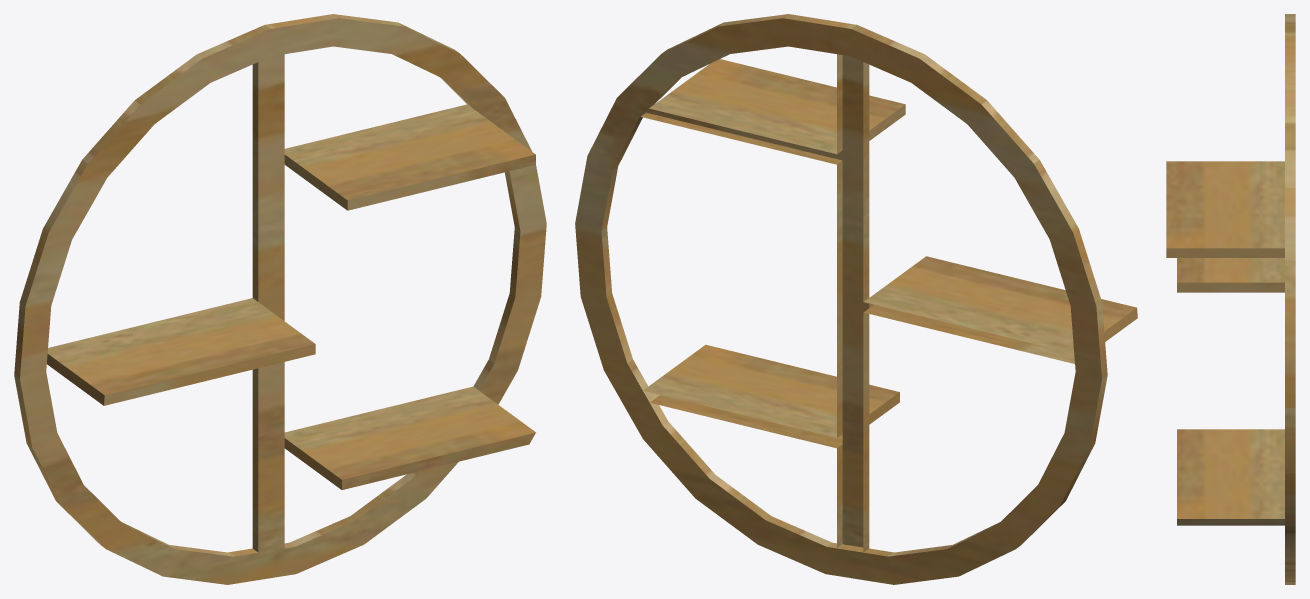
3 views of the same model, side by side, from view 1: azimuth 30°, elevation 25°; view 2: azimuth 150°, elevation 25°; view 3: azimuth 270°, elevation 25° (orthographic). The views are drawn at different scales.
Parts seen in each view (by area): view 1: Root Node; view 2: Root Node; view 3: Root Node.
Part boxes in pixels (x1=…): Root Node: x1=14, y1=14, x2=546, y2=584; Root Node: x1=575, y1=14, x2=1137, y2=584; Root Node: x1=1166, y1=14, x2=1295, y2=584.
Size of the model in its own units: 0.799 by 0.799 by 0.18.
Materials: 89 (89 with a texture image).
